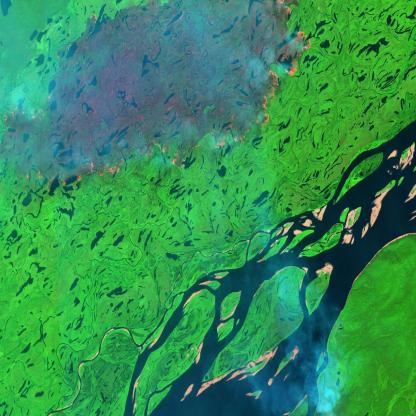fire: (2, 0, 315, 197)
